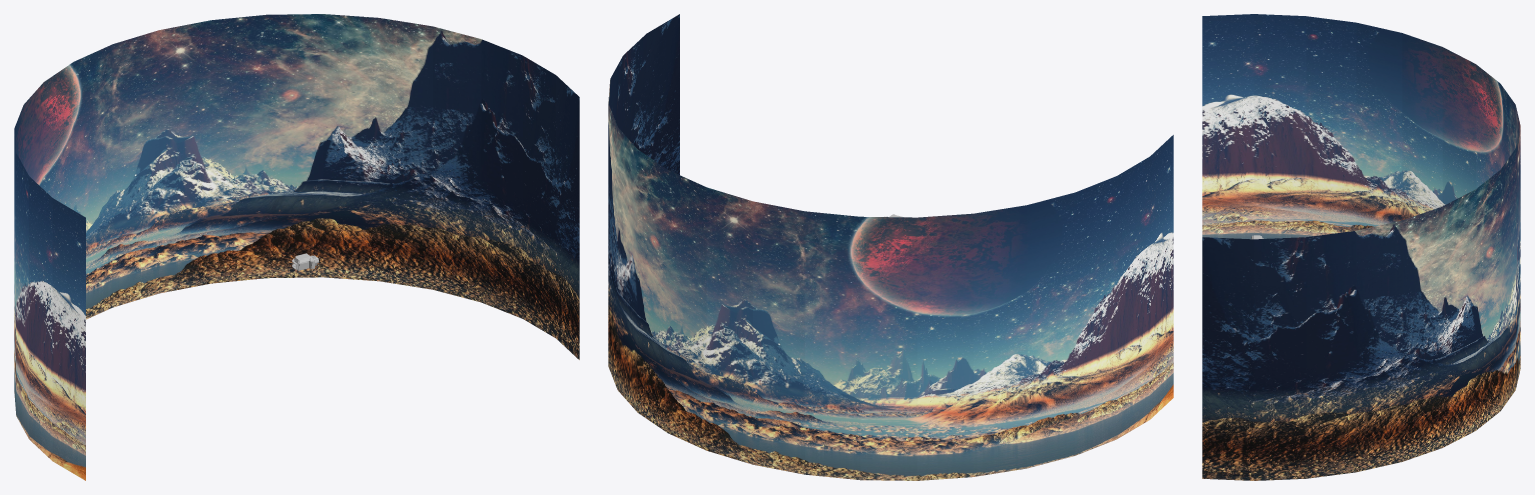
Rendered from 20211107_skybox.gltf.
The picture shows the model from 3 angles, left to right: view 1: azimuth 30°, elevation 25°; view 2: azimuth 150°, elevation 25°; view 3: azimuth 270°, elevation 25°; orthographic projection. The views are drawn at different scales.
Parts seen in each view (by area): view 1: Wallpaper; view 2: Wallpaper; view 3: Wallpaper.
Boxes of the visible parts, left/top/right/bottom form: Wallpaper: left=14, top=14, right=579, bottom=480; Wallpaper: left=608, top=14, right=1173, bottom=480; Wallpaper: left=1202, top=14, right=1520, bottom=480.
Bounding box in the file's own units: 200 × 100 × 120.
